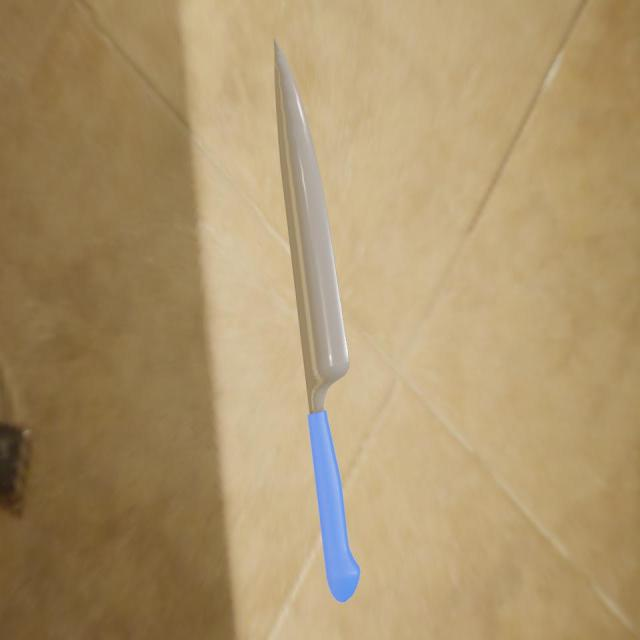knife: (307, 406, 361, 603)
